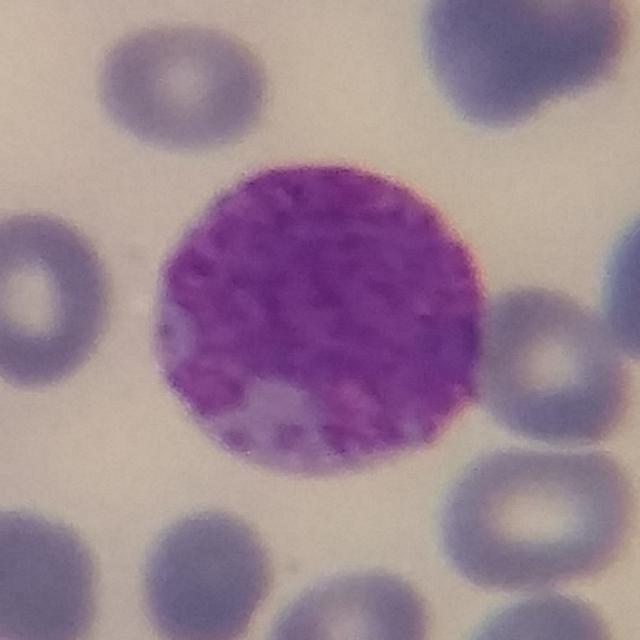baso: (148, 160, 489, 481)
